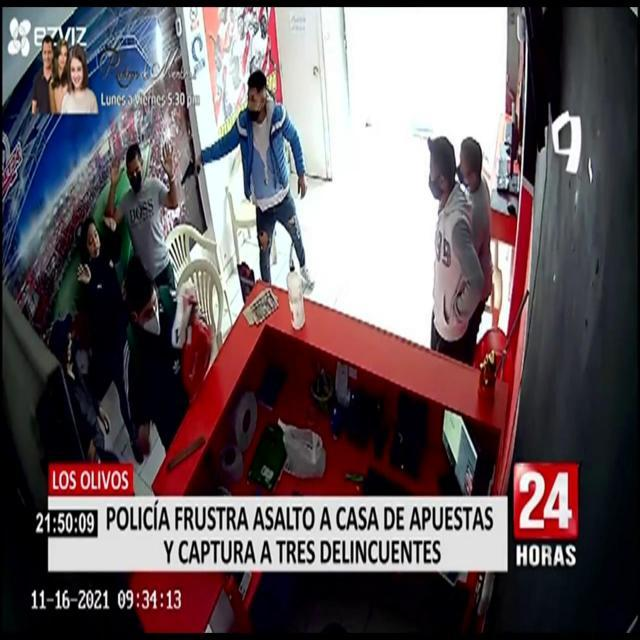weapon: (178, 142, 204, 198)
